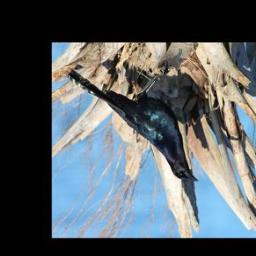Crow: (68, 61, 199, 182)
